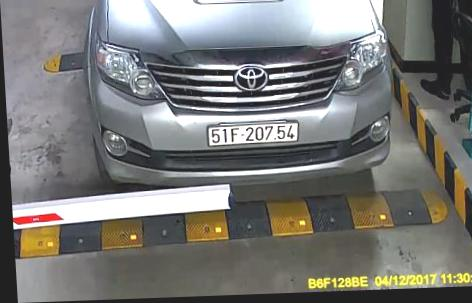License_Plate: (203, 115, 302, 147)
